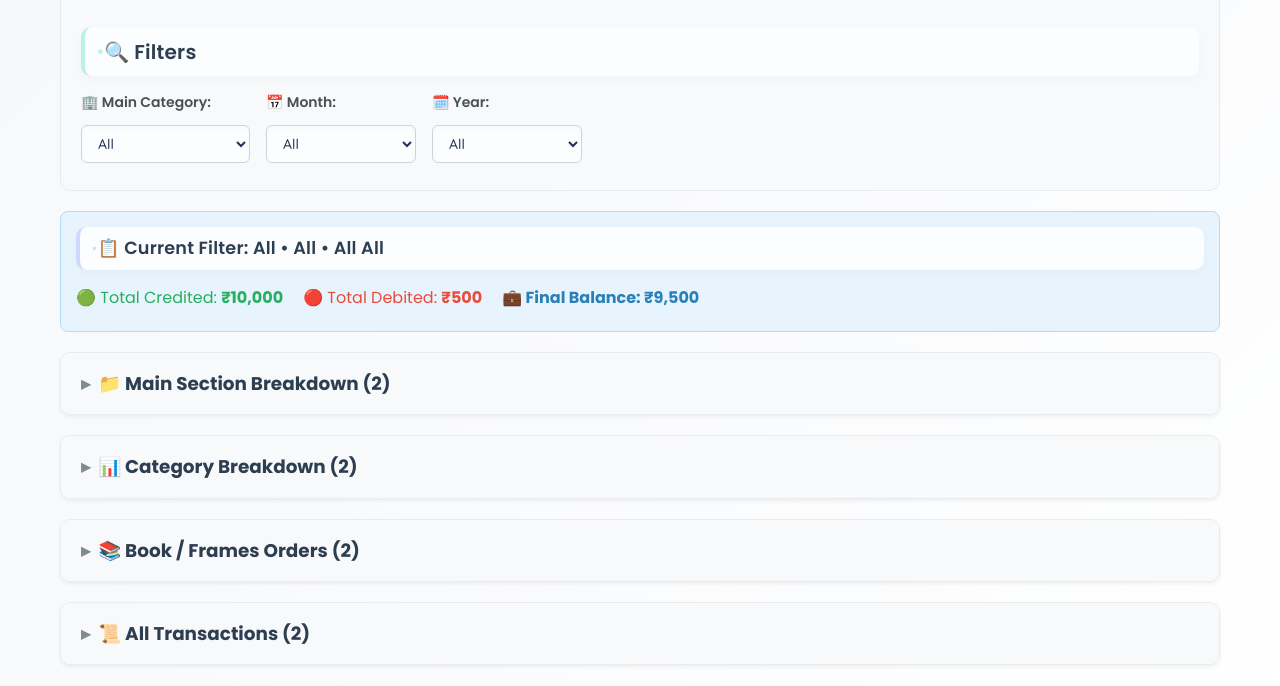
Test: book orders panel: opens, defaults to Transfer to Sanghamitra, filters
(page scrolled)
Check: the text "Shivam" is not shown
Click the text "📚 Book / Frames Orders (2)" at (229, 550), box top-left (98, 536), bottom-right (360, 565)
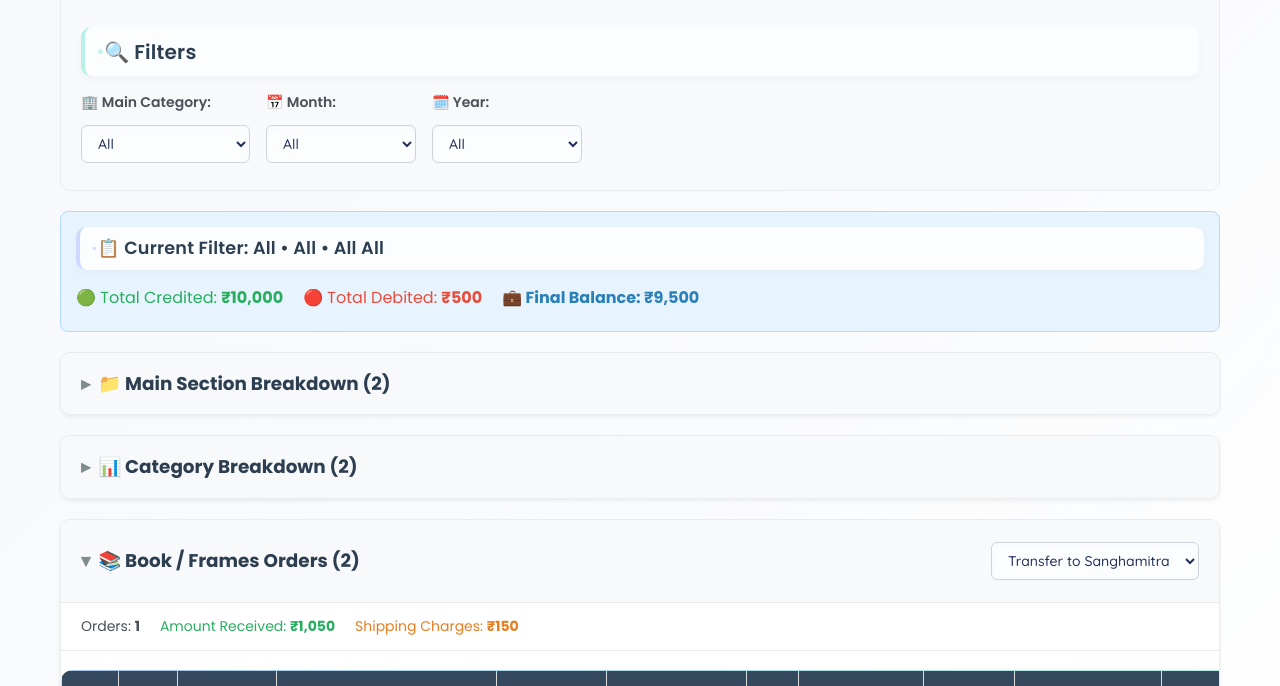
Check: the text "Ajeet Kumar" is not shown
Select "All (2)" in the 4th dropdown at (1095, 561), box top-left (991, 542), bottom-right (1199, 580)
(page scrolled)
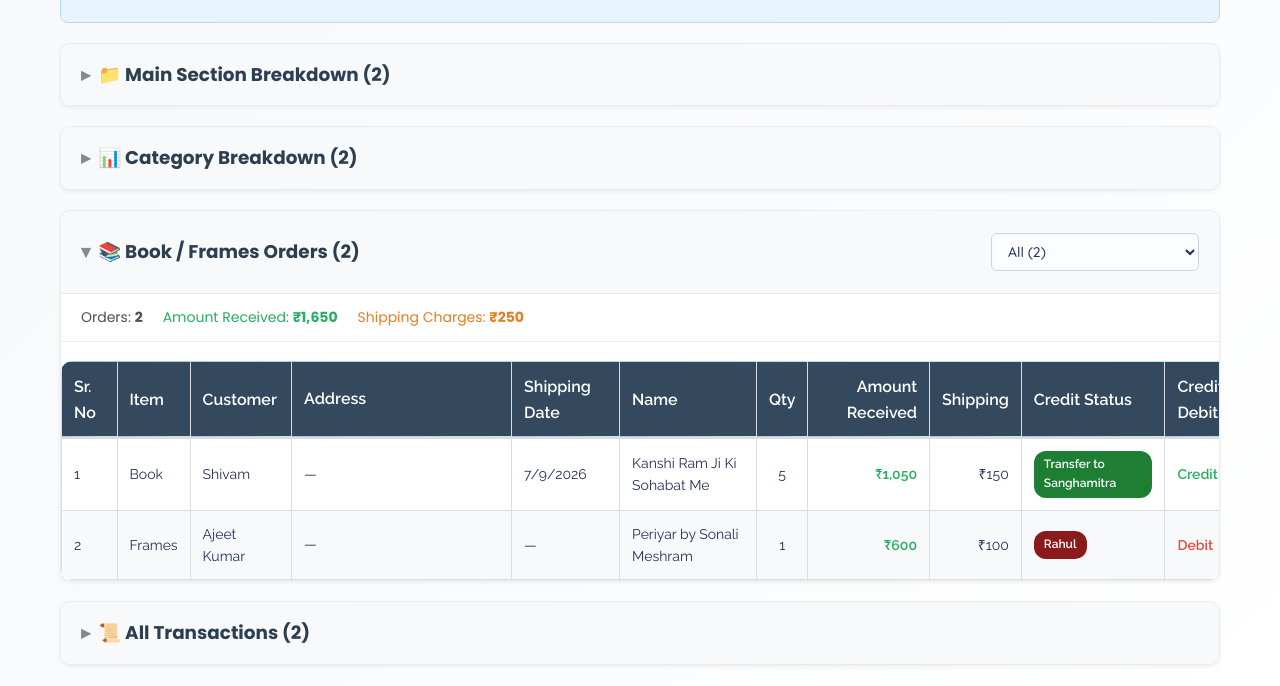
Check: the text "Shivam" is shown, box top-left (190, 439), bottom-right (292, 510)
Check: the text "Ajeet Kumar" is shown, box top-left (190, 510), bottom-right (292, 580)
